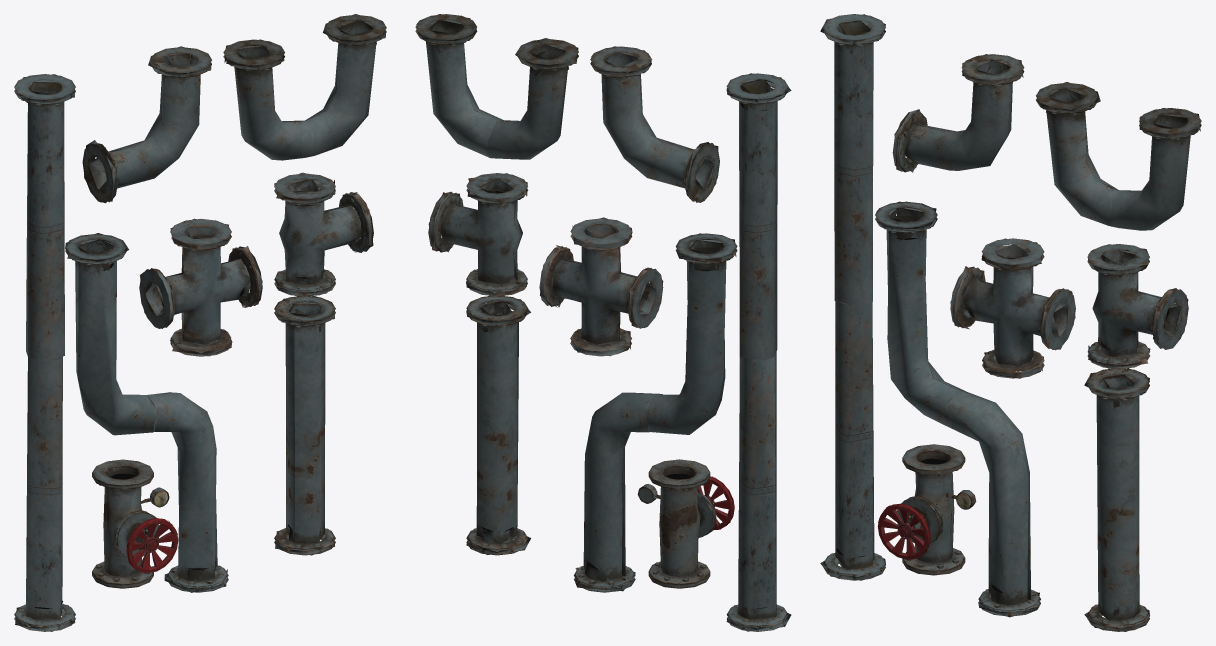
File: arena-modular-industrial-pipes-01.glb
3 renders of one model, left to right at view 1: azimuth 30°, elevation 25°; view 2: azimuth 150°, elevation 25°; view 3: azimuth 330°, elevation 25°, orthographic.
Parts seen in each view (by area): view 1: modular_industrial_pipes_01_pipe02, modular_industrial_pipes_01_pipe03, modular_industrial_pipes_01_pipe05, modular_industrial_pipes_01_pipe01, modular_industrial_pipes_01_pipe07, modular_industrial_pipes_01_pipe04, modular_industrial_pipes_01_pipe06, modular_industrial_pipes_01_pipe08; view 2: modular_industrial_pipes_01_pipe02, modular_industrial_pipes_01_pipe03, modular_industrial_pipes_01_pipe05, modular_industrial_pipes_01_pipe01, modular_industrial_pipes_01_pipe07, modular_industrial_pipes_01_pipe04, modular_industrial_pipes_01_pipe06, modular_industrial_pipes_01_pipe08; view 3: modular_industrial_pipes_01_pipe02, modular_industrial_pipes_01_pipe03, modular_industrial_pipes_01_pipe05, modular_industrial_pipes_01_pipe01, modular_industrial_pipes_01_pipe07, modular_industrial_pipes_01_pipe06, modular_industrial_pipes_01_pipe04, modular_industrial_pipes_01_pipe08.
Part boxes in pixels (x1=…): modular_industrial_pipes_01_pipe02: x1=14, y1=74, x2=75, y2=631; modular_industrial_pipes_01_pipe03: x1=65, y1=233, x2=228, y2=592; modular_industrial_pipes_01_pipe05: x1=223, y1=14, x2=386, y2=160; modular_industrial_pipes_01_pipe01: x1=274, y1=296, x2=335, y2=555; modular_industrial_pipes_01_pipe07: x1=139, y1=218, x2=262, y2=356; modular_industrial_pipes_01_pipe04: x1=82, y1=46, x2=211, y2=203; modular_industrial_pipes_01_pipe06: x1=274, y1=172, x2=373, y2=296; modular_industrial_pipes_01_pipe08: x1=92, y1=459, x2=178, y2=588; modular_industrial_pipes_01_pipe02: x1=726, y1=73, x2=791, y2=631; modular_industrial_pipes_01_pipe03: x1=574, y1=233, x2=737, y2=592; modular_industrial_pipes_01_pipe05: x1=415, y1=14, x2=578, y2=159; modular_industrial_pipes_01_pipe01: x1=466, y1=295, x2=530, y2=555; modular_industrial_pipes_01_pipe07: x1=539, y1=217, x2=663, y2=356; modular_industrial_pipes_01_pipe04: x1=590, y1=46, x2=719, y2=202; modular_industrial_pipes_01_pipe06: x1=428, y1=173, x2=528, y2=297; modular_industrial_pipes_01_pipe08: x1=637, y1=459, x2=734, y2=588; modular_industrial_pipes_01_pipe02: x1=820, y1=14, x2=885, y2=580; modular_industrial_pipes_01_pipe03: x1=875, y1=201, x2=1040, y2=617; modular_industrial_pipes_01_pipe05: x1=1036, y1=82, x2=1201, y2=230; modular_industrial_pipes_01_pipe01: x1=1084, y1=368, x2=1149, y2=631; modular_industrial_pipes_01_pipe07: x1=950, y1=238, x2=1075, y2=378; modular_industrial_pipes_01_pipe06: x1=1087, y1=244, x2=1188, y2=369; modular_industrial_pipes_01_pipe04: x1=892, y1=54, x2=1024, y2=172; modular_industrial_pipes_01_pipe08: x1=877, y1=444, x2=976, y2=575.
Bounding box in the file's own units: 1.42 × 1.95 × 0.3078.
2 materials, 2 textured.
